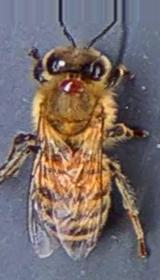varroa_mite: (56, 74, 86, 100)
